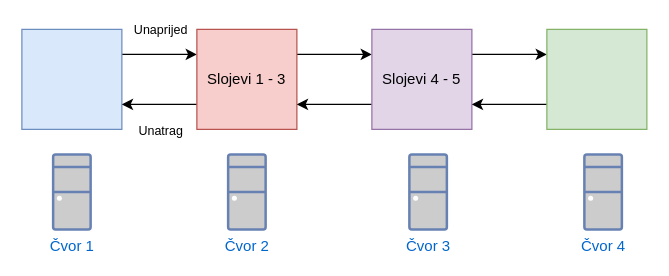
Image size: 669x276. Some labels were removed from this diagram. Each missing label, with the centre of its shape:
Sloj 0: point 71,78
Sloj 6: point 596,78
